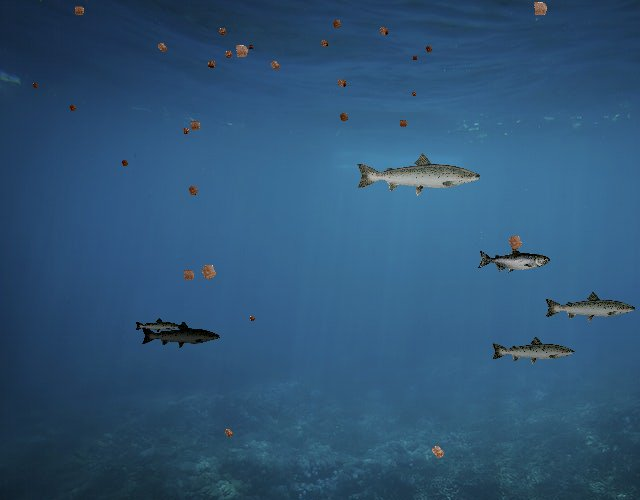Fish: (354, 151, 483, 197), (543, 291, 637, 325), (490, 335, 576, 366), (141, 320, 222, 349), (478, 247, 551, 274), (134, 317, 181, 334)
Pellet: (194, 256, 224, 287), (424, 439, 451, 466), (177, 263, 200, 286), (374, 22, 393, 41), (220, 424, 238, 442), (178, 124, 193, 139), (118, 156, 132, 170), (246, 313, 258, 325)
